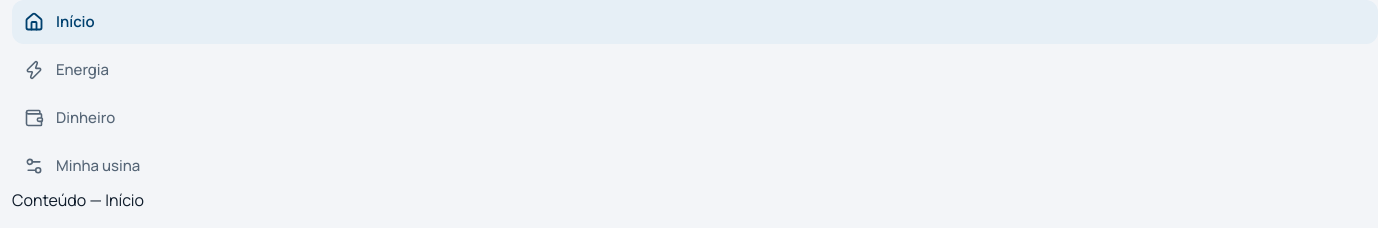
Test case: DashboardNav (ADR-083: 4 abas) › marca aria-current="page" apenas na aba ativa, e navega ao clicar nas outras
The width and height of the screenshot is (1378, 228).
Check: the text "Conteúdo — Início" is shown, box left=12, top=189, right=144, bottom=211
Click the link "Energia" at x=66, y=70, box left=24, top=59, right=109, bottom=80
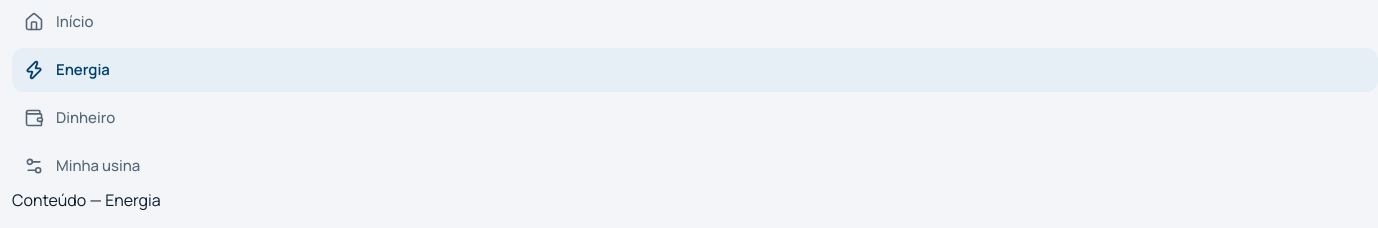
Check: the text "Conteúdo — Energia" is shown, box left=12, top=189, right=161, bottom=211
Click the link "Dinheiro" at x=70, y=118, box left=24, top=107, right=115, bottom=128
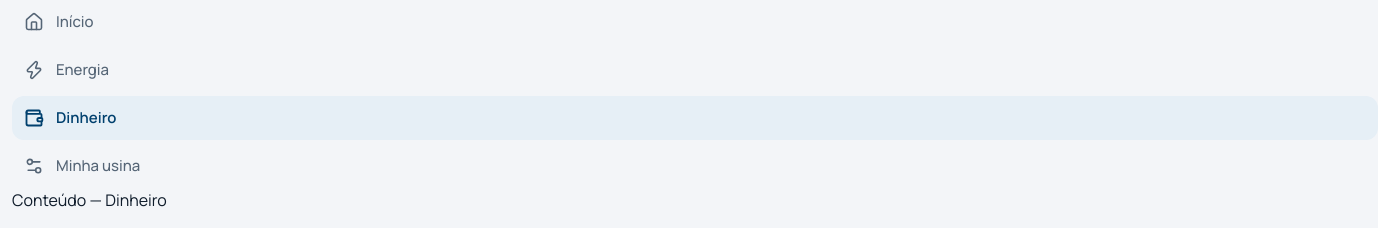
Check: the text "Conteúdo — Dinheiro" is shown, box left=12, top=189, right=167, bottom=211
Click the link "Minha usina" at x=82, y=166, box left=24, top=155, right=140, bottom=176
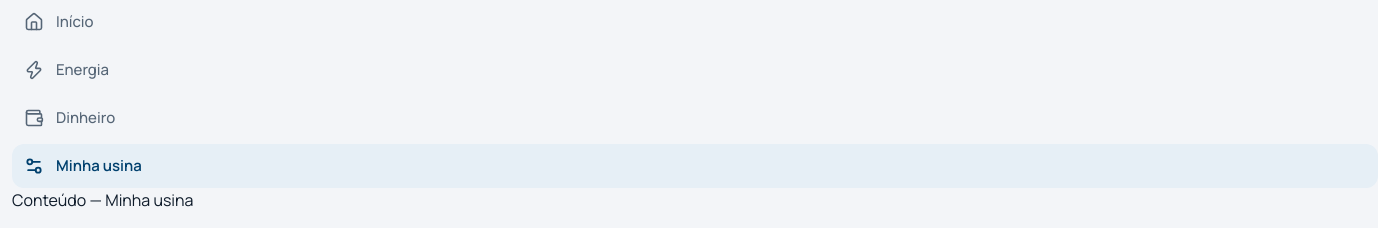
Check: the text "Conteúdo — Minha usina" is shown, box left=12, top=189, right=194, bottom=211
